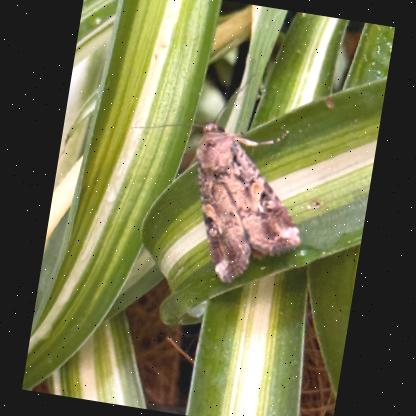Fall Armyworm Moth: (104, 53, 328, 299)
